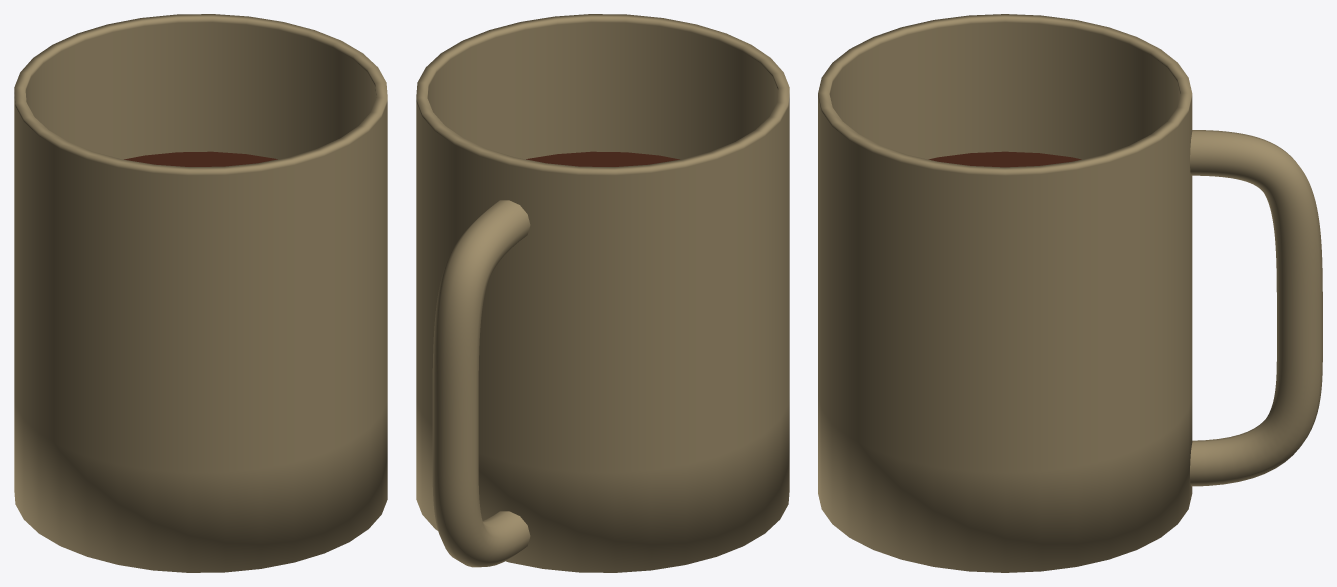
File: MugCup.fbx
3 views of the same model, side by side, from view 1: azimuth 30°, elevation 25°; view 2: azimuth 150°, elevation 25°; view 3: azimuth 270°, elevation 25° (orthographic).
Parts seen in each view (by area): view 1: Content; view 2: Content; view 3: Content.
Part boxes in pixels (box(x1,y1,x2,y2)): Content: box(14, 14, 387, 572); Content: box(416, 14, 789, 572); Content: box(818, 14, 1322, 572).
Size of the model in its own units: 200 by 236 by 270.
